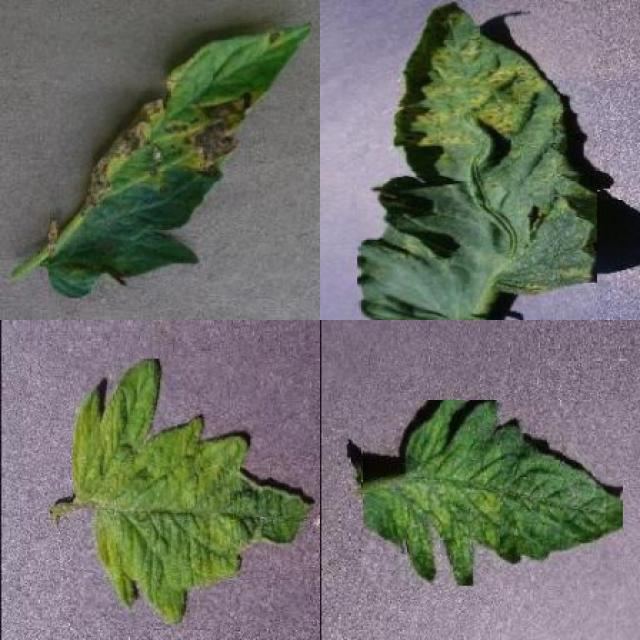Early Blight: (49, 22, 310, 298)
Mosaic Virus: (74, 358, 314, 628), (364, 400, 624, 586)
Septoria: (357, 1, 597, 320)
